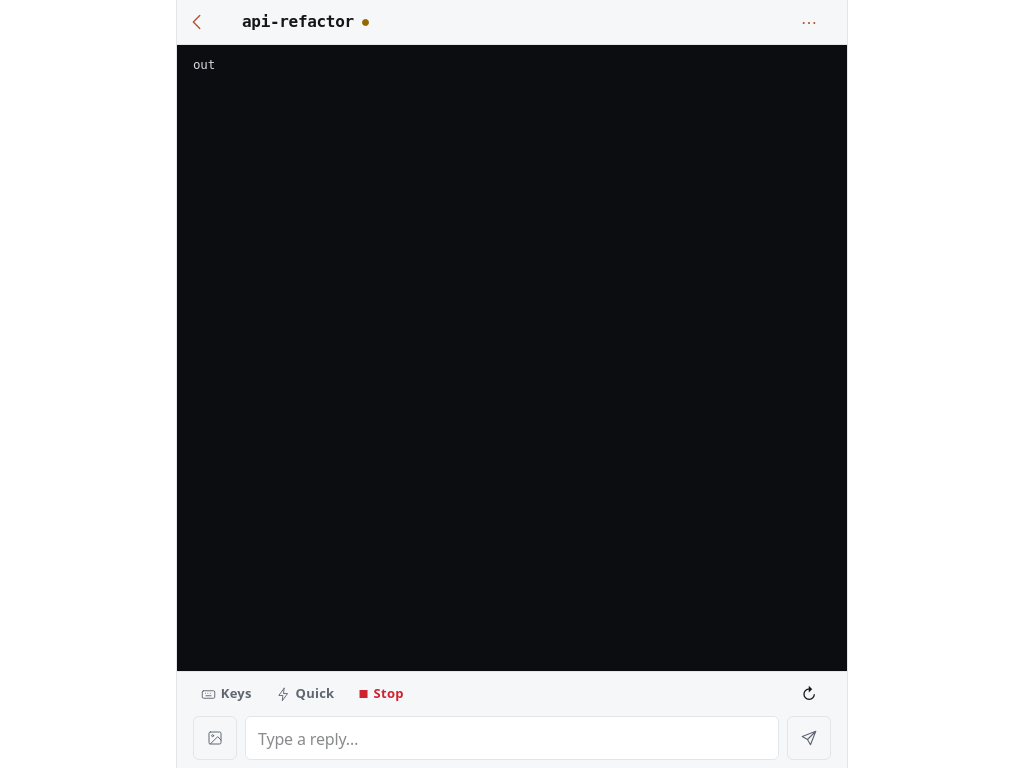
Scenario: one tap on Keys brings the pad back
Click the button with class "term-keys-toggle".
click(226, 694)  # box x1=193 y1=672 x2=260 y2=716
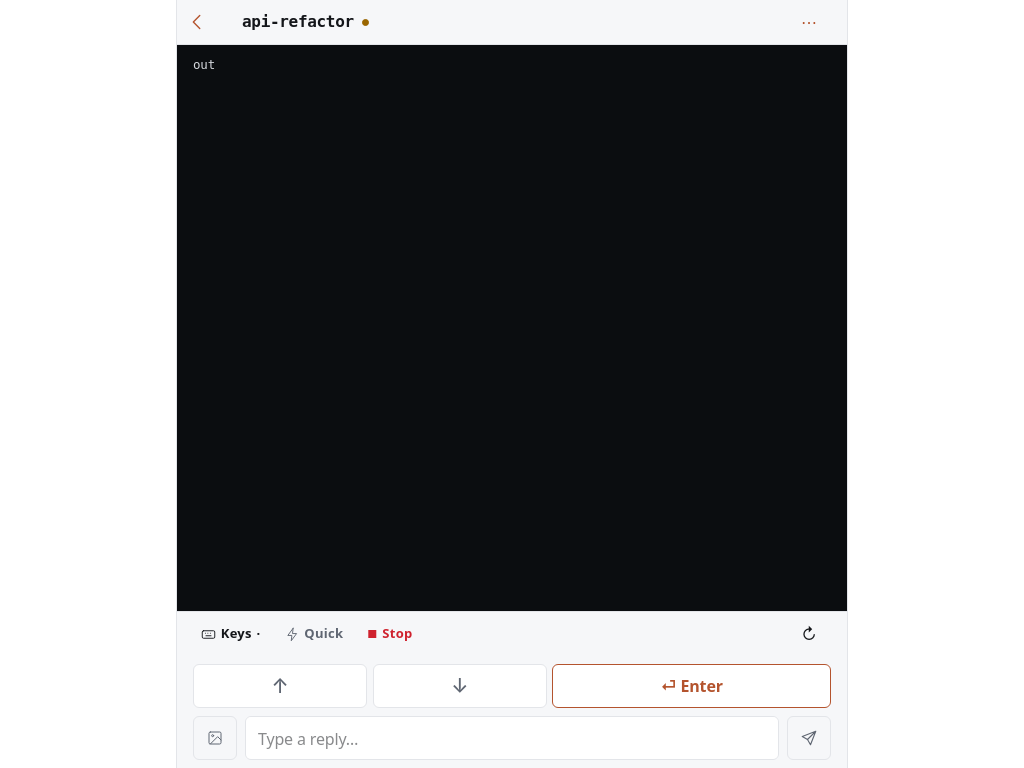
expect the button with class "term-keys-toggle" is expanded: met, box x1=193 y1=612 x2=268 y2=656
